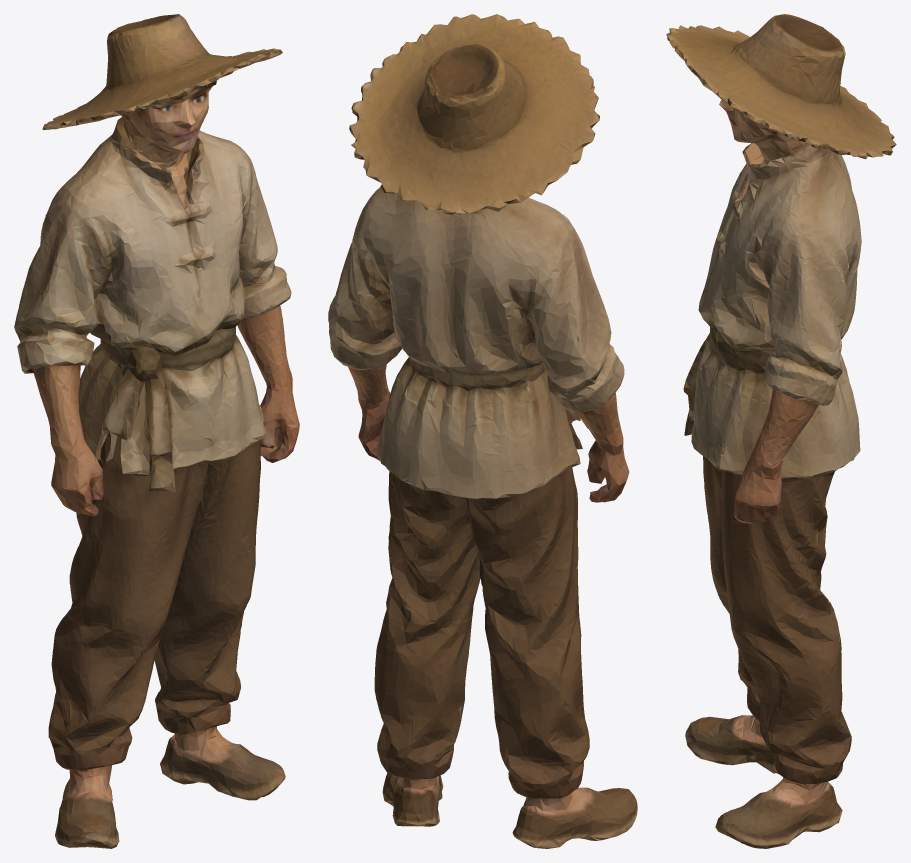
File: prop-villager_m.glb
3 renders of one model, left to right at view 1: azimuth 30°, elevation 25°; view 2: azimuth 150°, elevation 25°; view 3: azimuth 270°, elevation 25°, orthographic.
Visible parts, largest first — view 1: geometry_0; view 2: geometry_0; view 3: geometry_0.
Boxes of the visible parts, x1,y1,x2,y2 form: geometry_0: (14, 14, 299, 848); geometry_0: (328, 14, 637, 848); geometry_0: (666, 14, 896, 848).
Bounding box in the file's own units: 0.7303 × 2 × 0.5335.
1 material, 1 textured.
